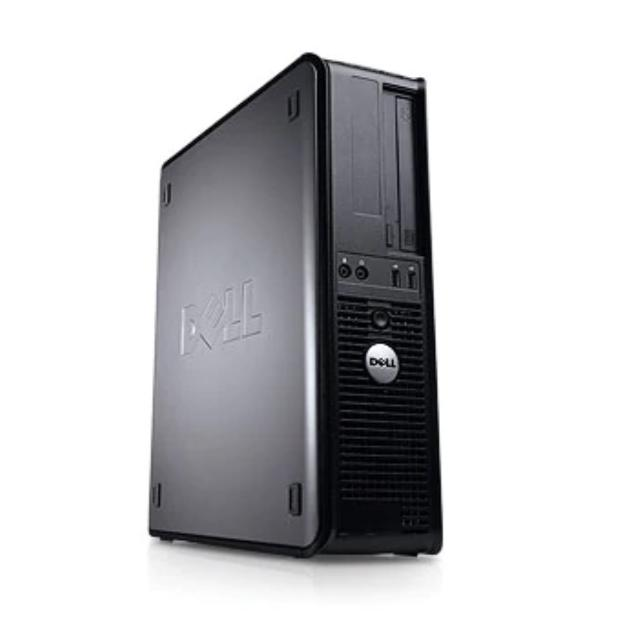Desktop-PC: (150, 50, 452, 562)
